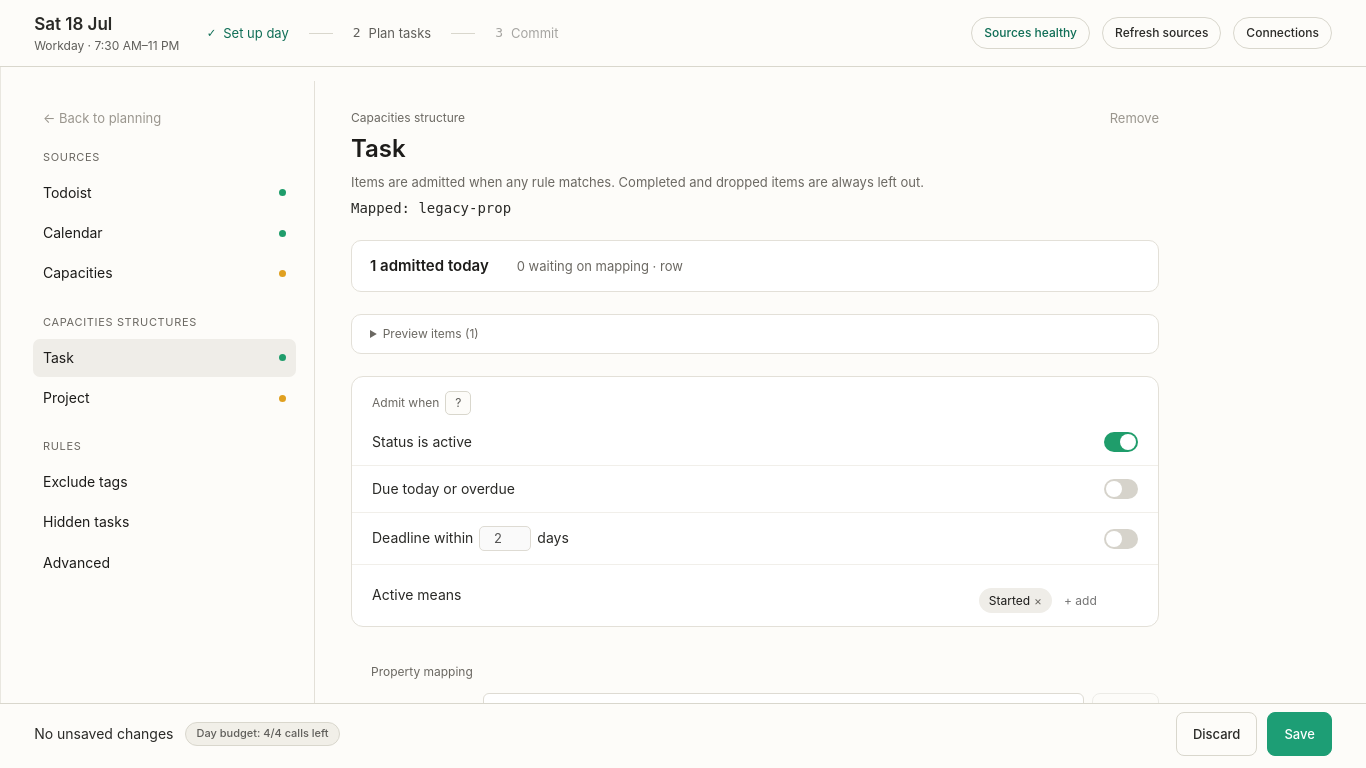
Test: Connections Assigned On marker › shows the mapped hint and clears waiting-on-mapping for either marker
The image size is (1366, 768).
Click the button "Task".
click(58, 357)  # box [33, 339, 296, 377]
(page scrolled)
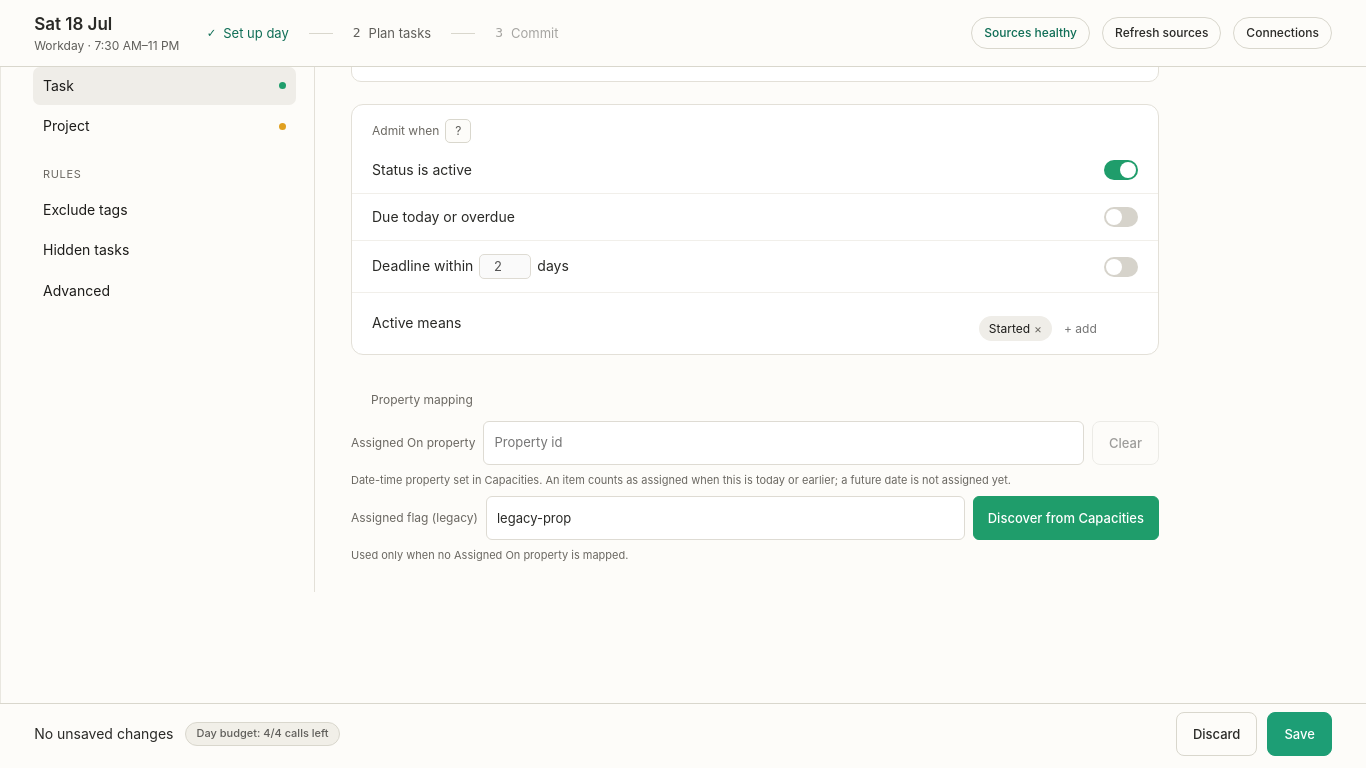
Clear the field named "Mapping for RootTask" at (725, 518), box [486, 496, 965, 540]
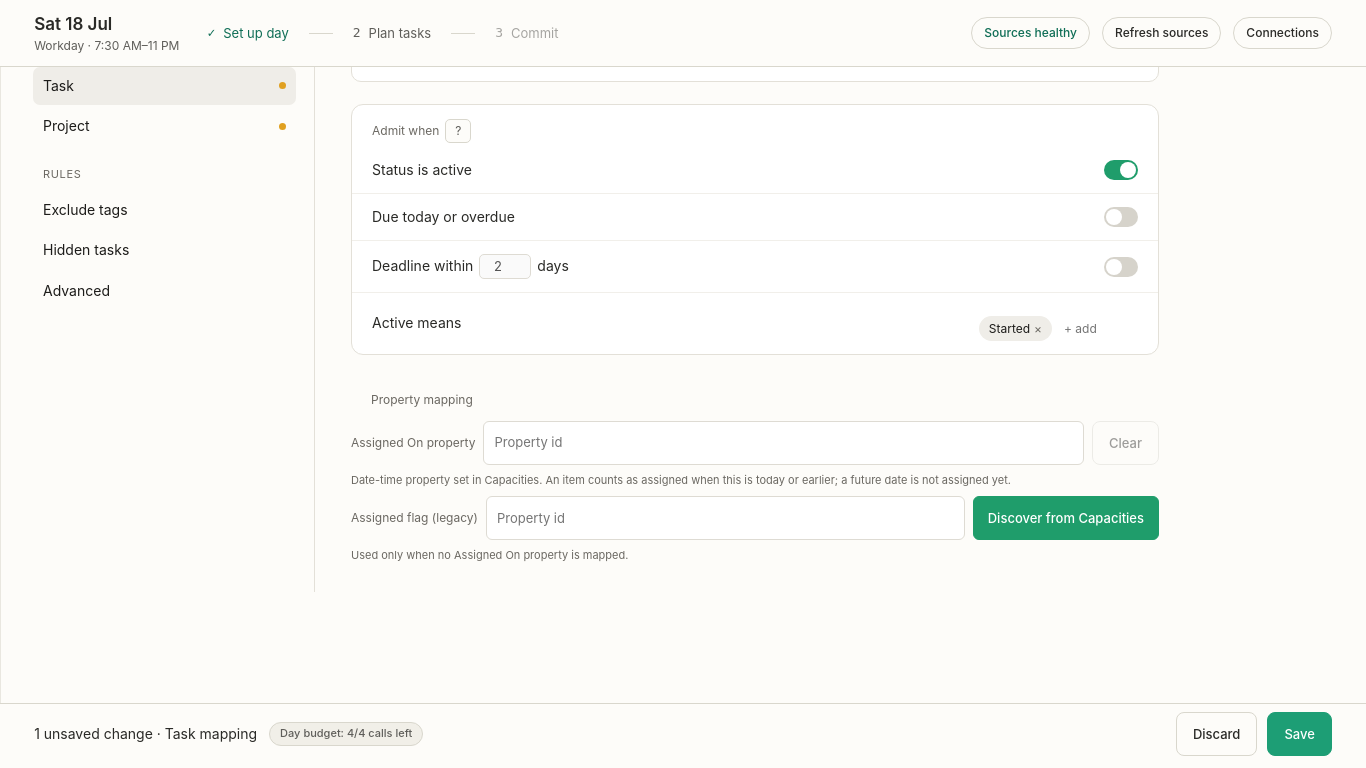
Type "date-prop" into the field named "Assigned On property for RootTask".
click(784, 443); type("date-prop")  # box [484, 421, 1084, 465]
(page scrolled)
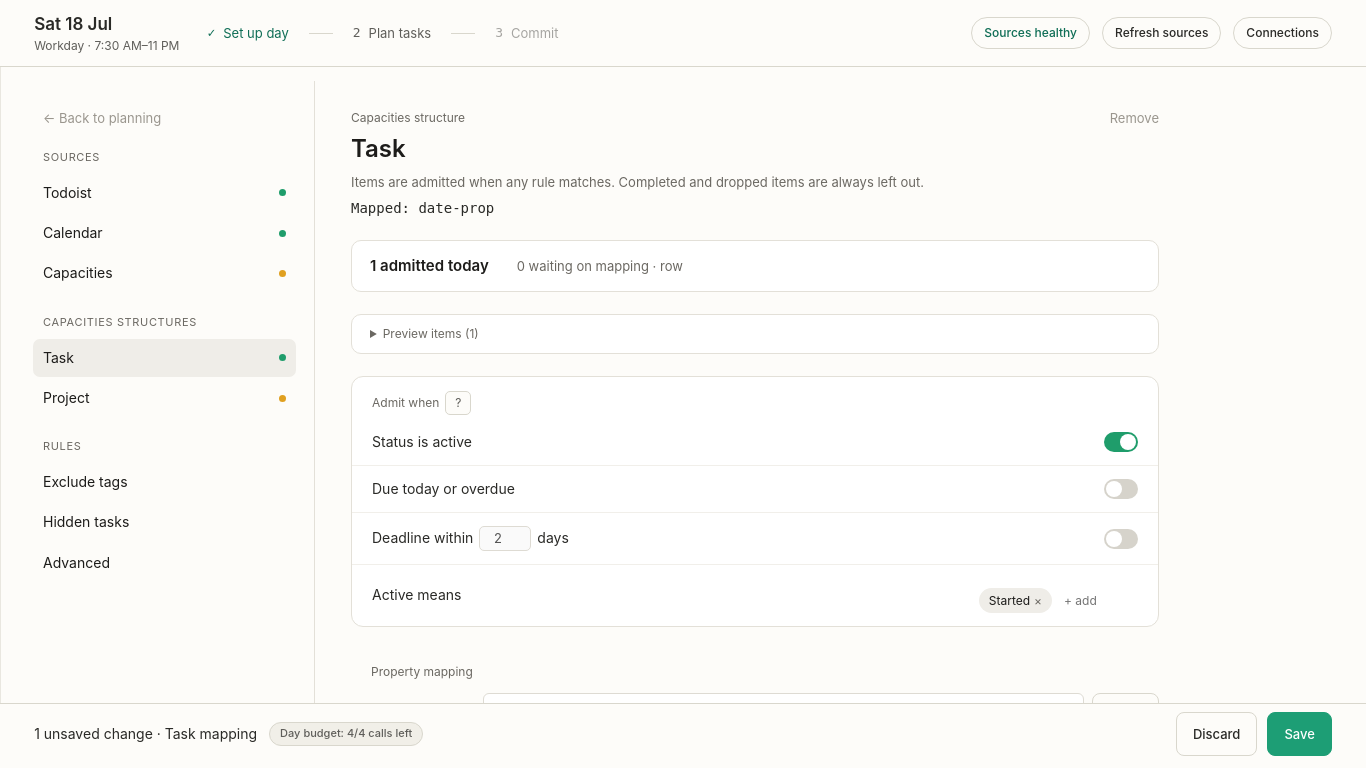
Expected: the text "Mapped: date-prop" is shown, [351, 200, 494, 216]
Expected: the text "0 waiting on mapping · row" is shown, [517, 257, 683, 276]
